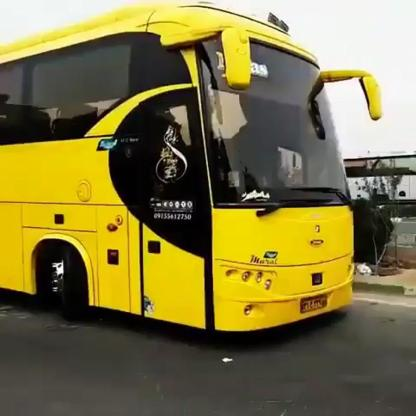Bus: (0, 0, 389, 350)
